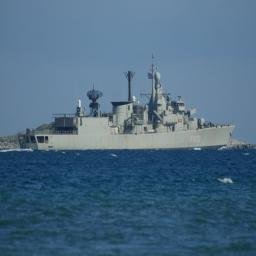Fragata: (18, 51, 238, 155)
